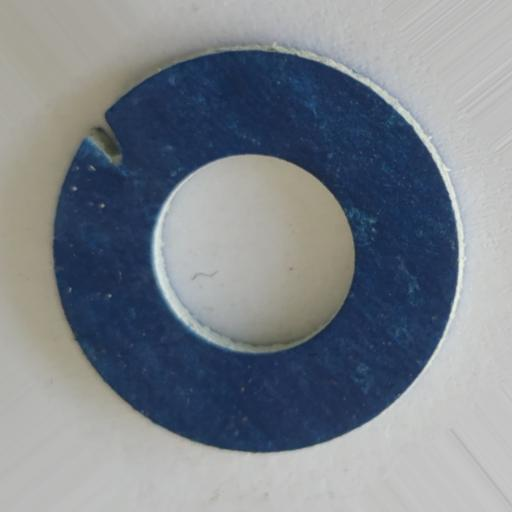defect: (84, 114, 127, 170)
